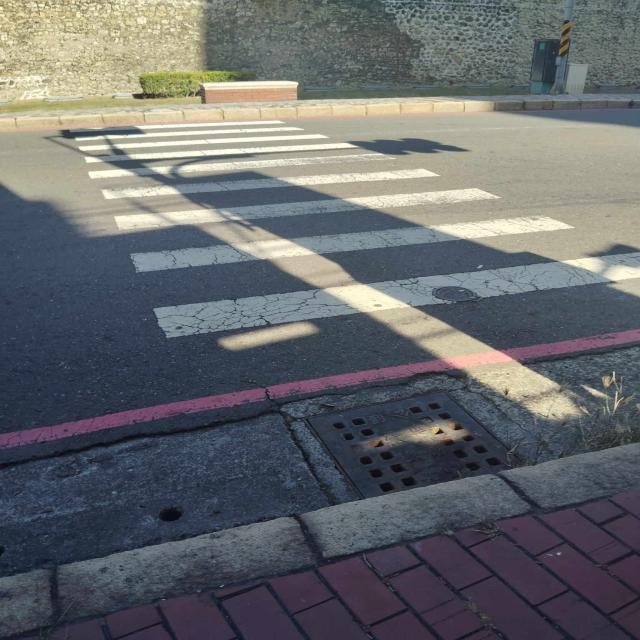zebra crossing: (74, 120, 640, 347)
